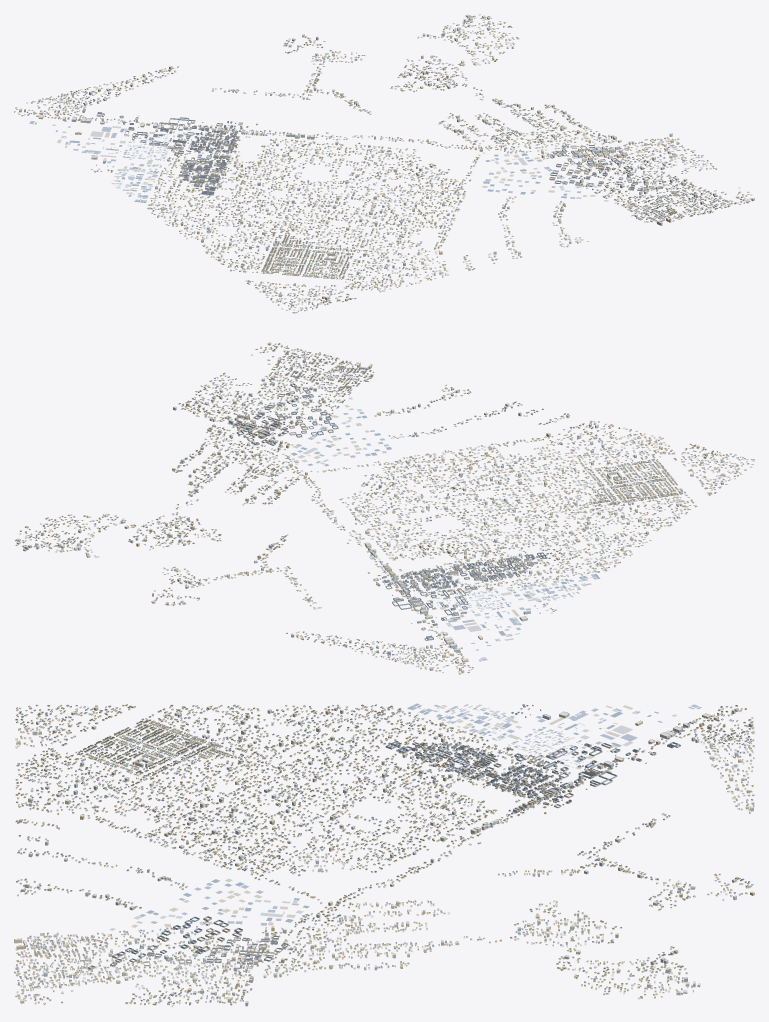
The picture shows the model from 3 angles, top to bottom: view 1: azimuth 30°, elevation 25°; view 2: azimuth 150°, elevation 25°; view 3: azimuth 270°, elevation 25°; orthographic projection. The views are drawn at different scales.
Parts seen in each view (by area): view 1: house, roof_zinc, apartment, factory, roof_flat; view 2: house, roof_zinc, apartment, factory, roof_flat; view 3: house, roof_zinc, apartment, factory, roof_flat.
Boxes of the visible parts, bbox=[...] form: house: bbox=[14, 14, 751, 313]; roof_zinc: bbox=[15, 16, 752, 312]; apartment: bbox=[19, 14, 754, 306]; factory: bbox=[96, 112, 676, 195]; roof_flat: bbox=[19, 15, 754, 304]; house: bbox=[15, 343, 754, 674]; roof_zinc: bbox=[14, 343, 753, 674]; apartment: bbox=[16, 342, 738, 672]; factory: bbox=[236, 375, 546, 640]; roof_flat: bbox=[17, 342, 738, 670]; house: bbox=[14, 704, 754, 1006]; roof_zinc: bbox=[14, 703, 754, 1007]; apartment: bbox=[14, 706, 754, 1006]; factory: bbox=[88, 741, 680, 969]; roof_flat: bbox=[14, 706, 754, 1002].
Bounding box in the file's own units: 1.4e+08 × 726249 × 1.45e+08.
